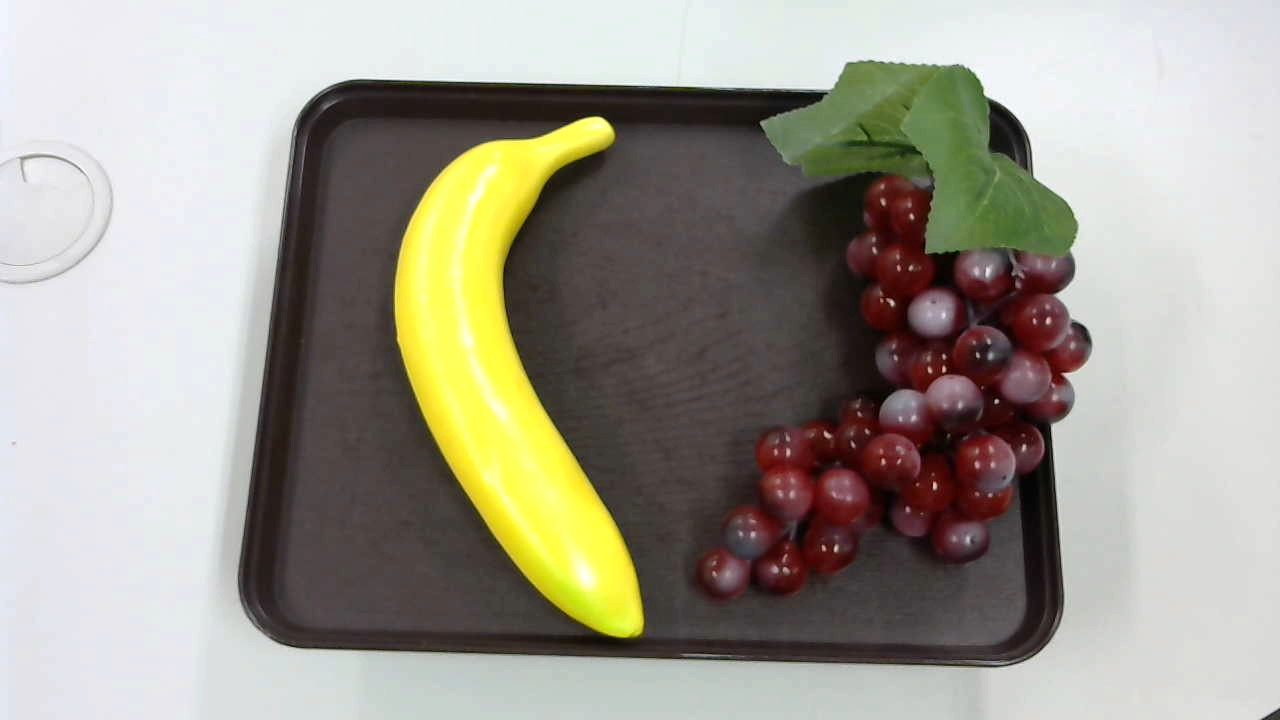banana: (386, 113, 666, 646)
grape: (696, 52, 1100, 622)
